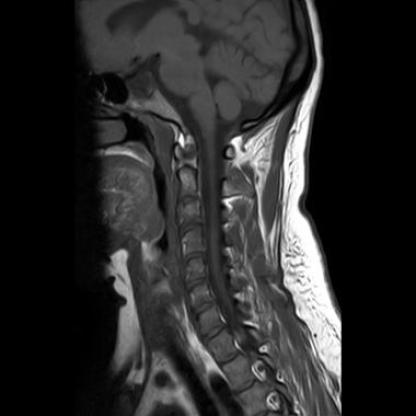Disc Bulgerotation: (175, 221, 205, 235), (180, 250, 207, 264)
